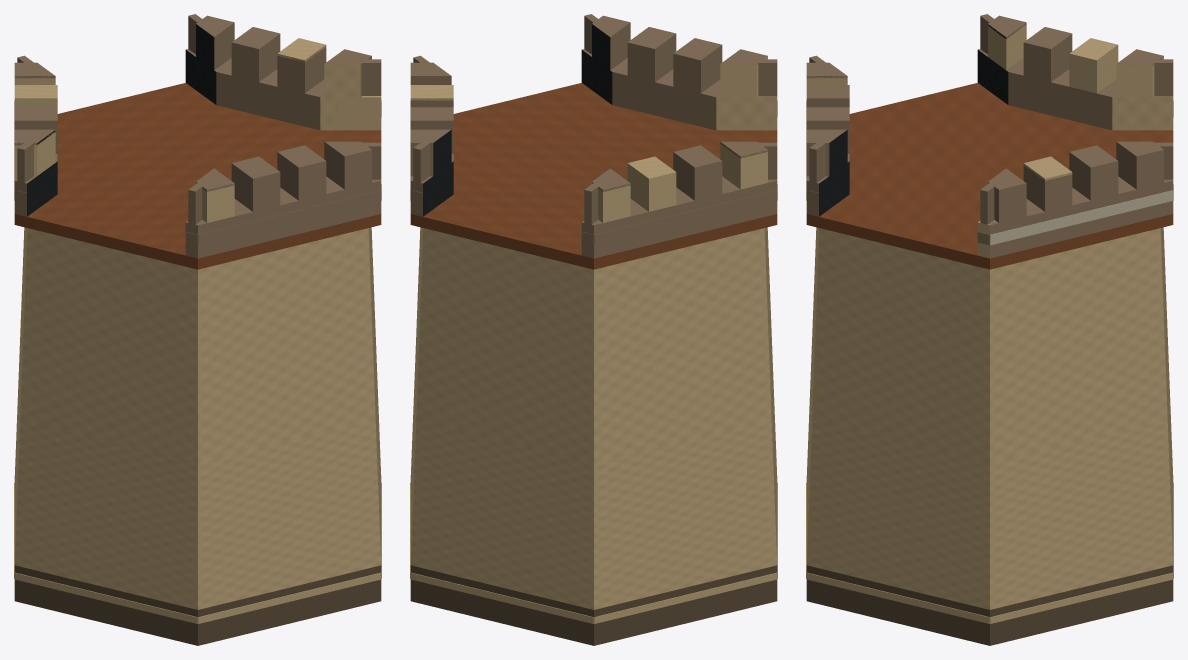
The model's file is Berber_Bastion_Age3_why.fbx.
The picture shows the model from 3 angles, left to right: view 1: azimuth 30°, elevation 25°; view 2: azimuth 150°, elevation 25°; view 3: azimuth 270°, elevation 25°; orthographic projection.
Parts seen in each view (by area): view 1: why_battered_upper, why_battered_lower, why_continuous_walk_floor, why_stone_foot, why_guard_0_0, why_guard_2_0, why_owner_band_2_0, why_merlon_2_0_1, why_merlon_0_0_2, why_merlon_0_0_1, why_merlon_2_0_2, why_merlon_2_0_0 (+18 smaller); view 2: why_battered_upper, why_battered_lower, why_continuous_walk_floor, why_stone_foot, why_guard_2_0, why_guard_4_0, why_owner_band_4_0, why_merlon_2_0_2, why_merlon_2_0_1, why_merlon_4_0_1, why_merlon_4_0_2, why_merlon_4_0_0 (+20 smaller); view 3: why_battered_upper, why_battered_lower, why_continuous_walk_floor, why_stone_foot, why_guard_4_0, why_guard_0_0, why_owner_band_0_0, why_merlon_4_0_1, why_merlon_4_0_2, why_merlon_0_0_1, why_merlon_0_0_2, why_merlon_0_0_0 (+21 smaller).
Boxes of the visible parts, <box> form: why_battered_upper: <box>20,227,375,463</box>; why_battered_lower: <box>14,337,381,609</box>; why_continuous_walk_floor: <box>14,83,381,269</box>; why_stone_foot: <box>14,565,381,645</box>; why_guard_0_0: <box>190,51,373,130</box>; why_guard_2_0: <box>196,176,381,258</box>; why_owner_band_2_0: <box>198,190,381,245</box>; why_merlon_2_0_1: <box>277,154,326,200</box>; why_merlon_0_0_2: <box>277,45,326,93</box>; why_merlon_0_0_1: <box>231,35,280,82</box>; why_merlon_2_0_2: <box>231,165,280,211</box>; why_merlon_2_0_0: <box>324,142,371,189</box>; why_battered_upper: <box>416,227,771,463</box>; why_battered_lower: <box>410,337,777,609</box>; why_continuous_walk_floor: <box>410,83,777,269</box>; why_stone_foot: <box>410,565,777,645</box>; why_guard_2_0: <box>586,51,770,130</box>; why_guard_4_0: <box>592,176,777,258</box>; why_owner_band_4_0: <box>594,190,777,245</box>; why_merlon_2_0_2: <box>673,45,722,93</box>; why_merlon_2_0_1: <box>627,34,676,82</box>; why_merlon_4_0_1: <box>673,152,722,200</box>; why_merlon_4_0_2: <box>627,164,676,211</box>; why_merlon_4_0_0: <box>720,143,767,189</box>; why_battered_upper: <box>812,227,1167,463</box>; why_battered_lower: <box>806,337,1173,609</box>; why_continuous_walk_floor: <box>806,83,1173,269</box>; why_stone_foot: <box>806,565,1173,645</box>; why_guard_4_0: <box>982,53,1164,130</box>; why_guard_0_0: <box>989,176,1173,258</box>; why_owner_band_0_0: <box>990,190,1173,245</box>; why_merlon_4_0_1: <box>1023,34,1072,82</box>; why_merlon_4_0_2: <box>1069,45,1118,93</box>; why_merlon_0_0_1: <box>1069,153,1118,200</box>; why_merlon_0_0_2: <box>1023,165,1072,211</box>; why_merlon_0_0_0: <box>1116,144,1163,189</box>.
Bounding box in the file's own units: 695 × 820 × 603.
4 materials, 4 textured.
